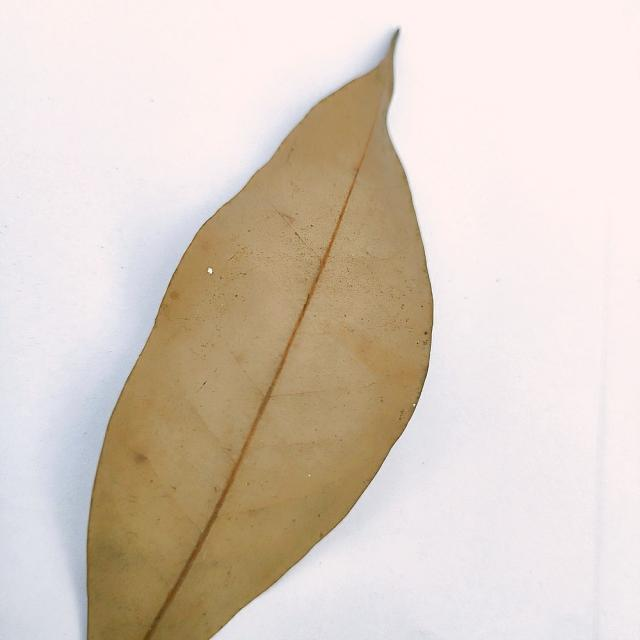Dry_Leaf-Lychee: (84, 47, 435, 639)
